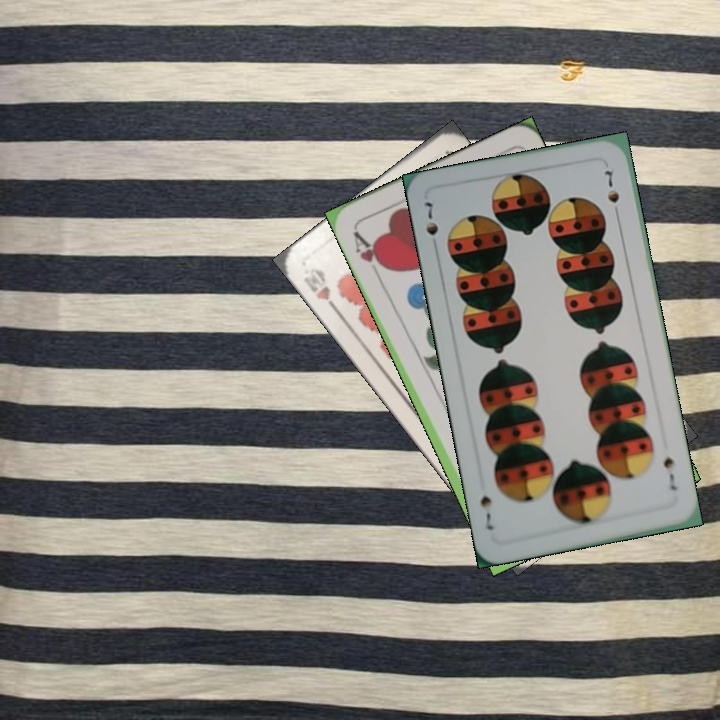H10: (299, 264, 342, 315)
HA: (348, 226, 389, 280)
S7: (421, 197, 441, 254), (659, 453, 679, 493)
